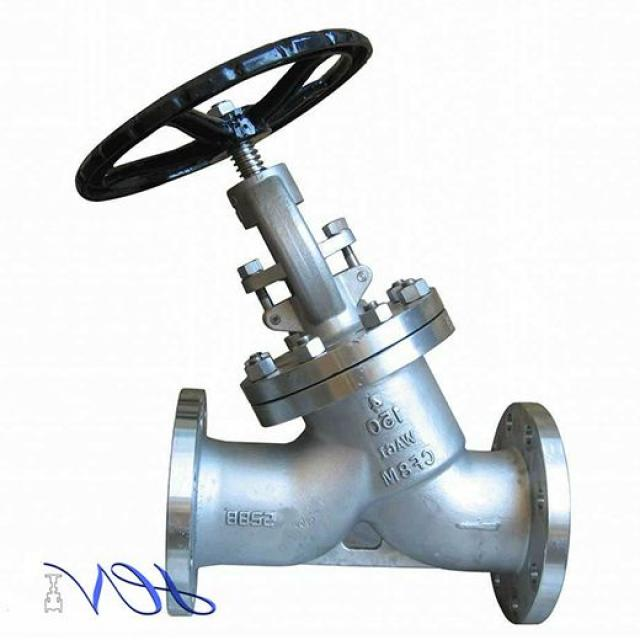Wheel Handle Valve Threaded: (59, 18, 374, 222)
